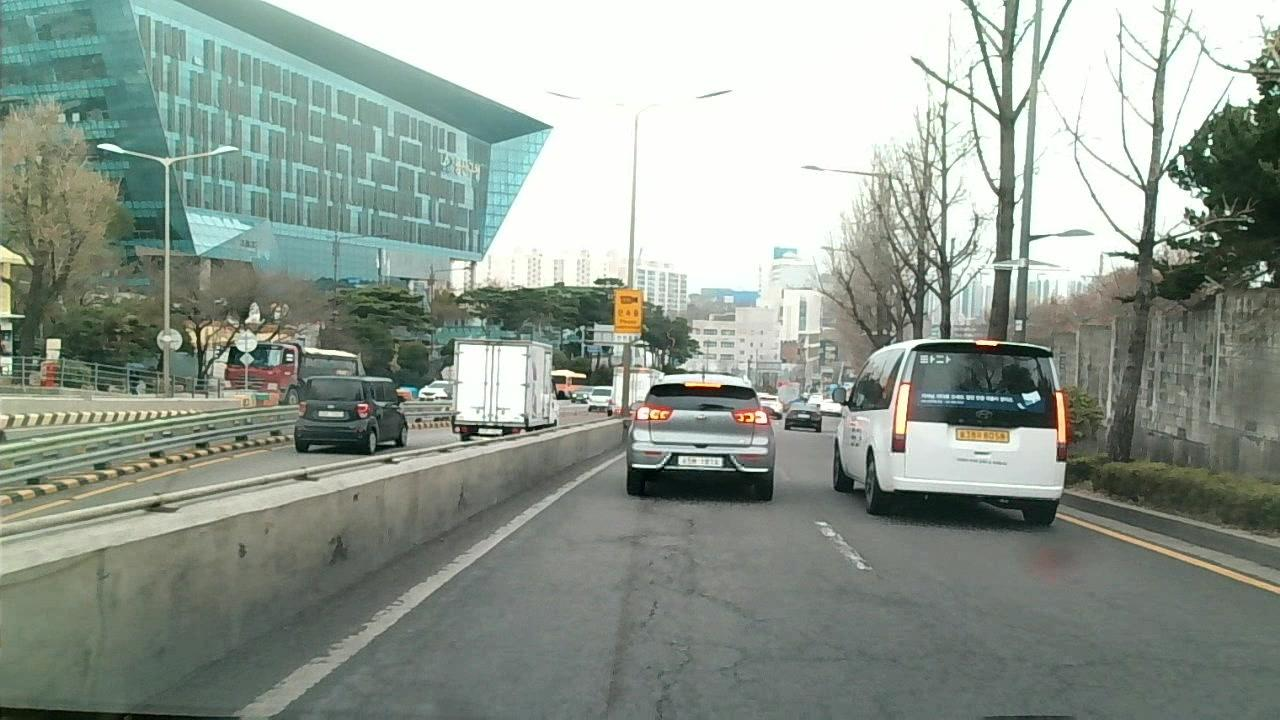erosion: (619, 501, 745, 720)
hcrack: (757, 640, 907, 673)
vcrack: (1042, 654, 1111, 701)
